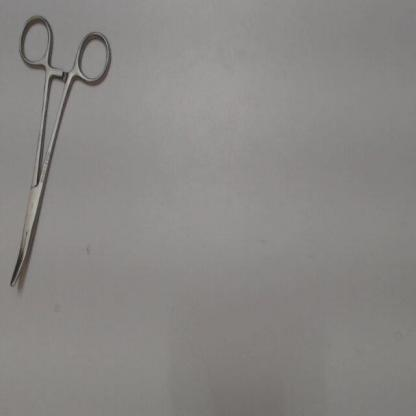Crile Artery Forceps: (5, 10, 117, 295)
